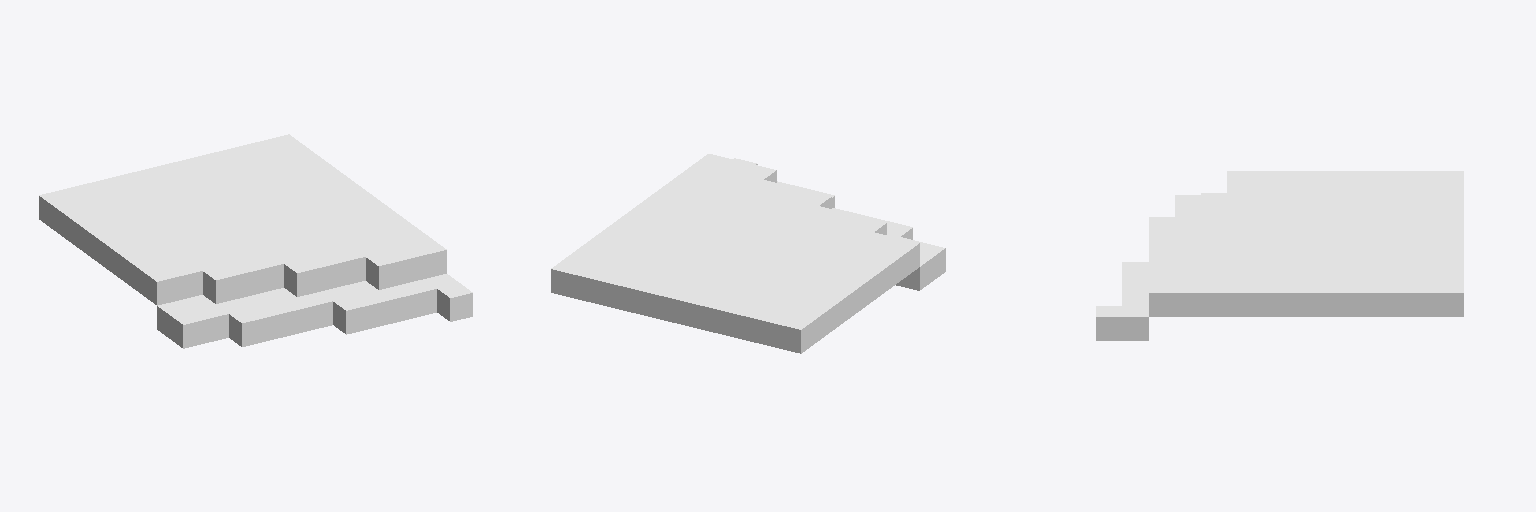
File: stairs_shard-5.obj
3 renders of one model, left to right at view 1: azimuth 30°, elevation 25°; view 2: azimuth 150°, elevation 25°; view 3: azimuth 270°, elevation 25°, orthographic.
Parts seen in each view (by area): view 1: object 1; view 2: object 1; view 3: object 1.
Part boxes in pixels (x1,y1,x2,y2): object 1: (39, 134, 472, 348); object 1: (551, 154, 945, 353); object 1: (1096, 171, 1463, 340).
Size of the model in its own units: 1.1 by 0.2 by 1.4.